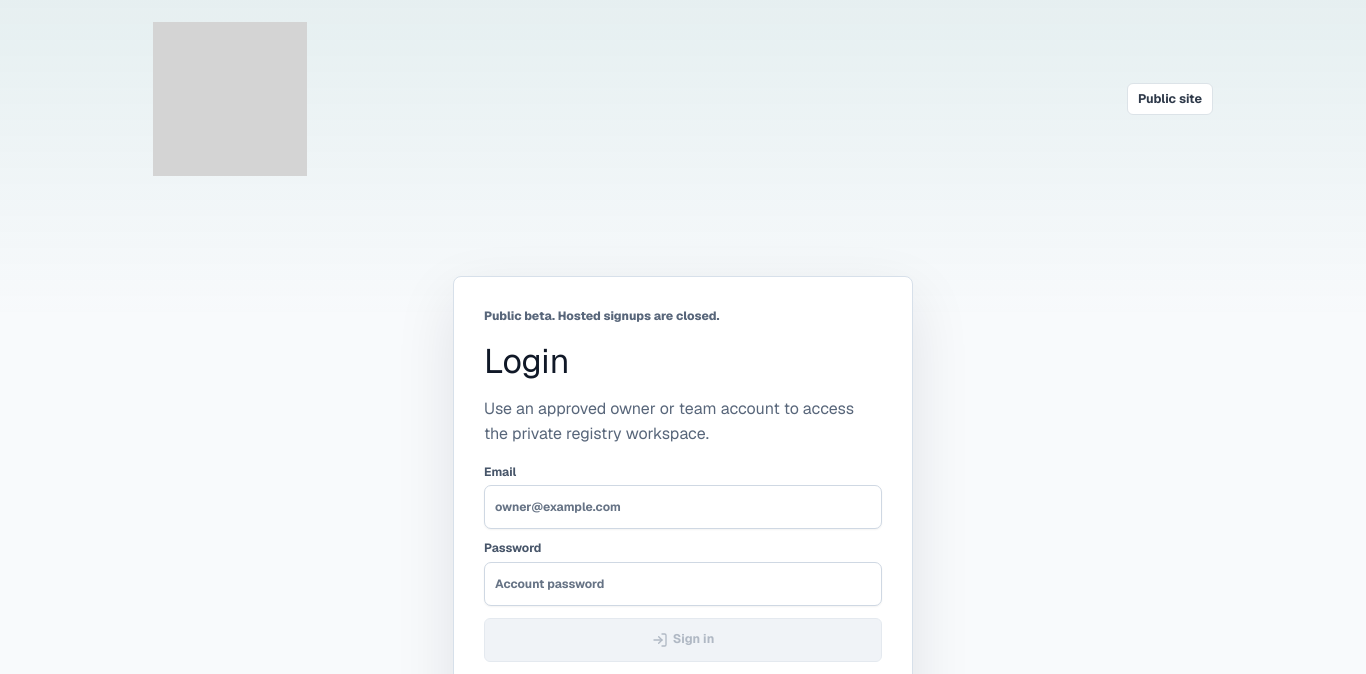
it: non-owner admin sessions cannot edit privileged target role controls
Step 1. Type "admin@example.com" into the field labelled "Email" → [683, 507], box [484,485,882,529]
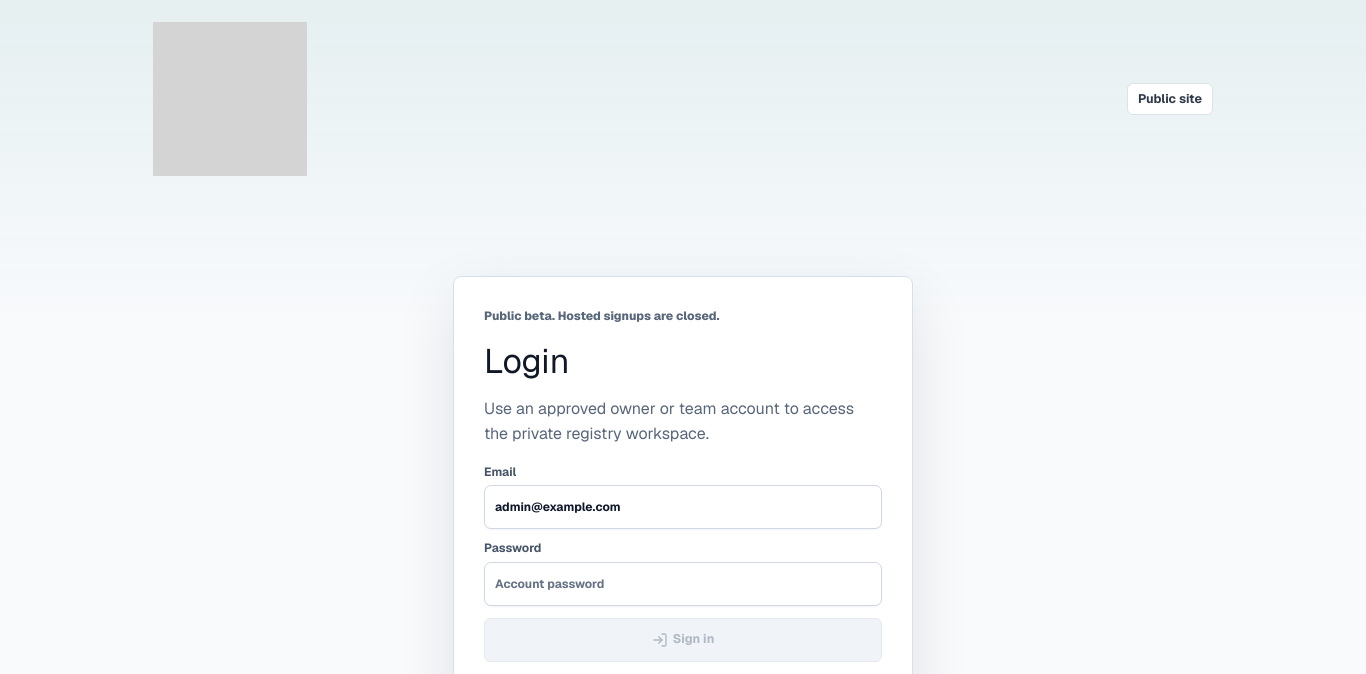
Step 2. Type "correct horse battery staple" into the password field labelled "Password" → [683, 584], box [484,562,882,606]
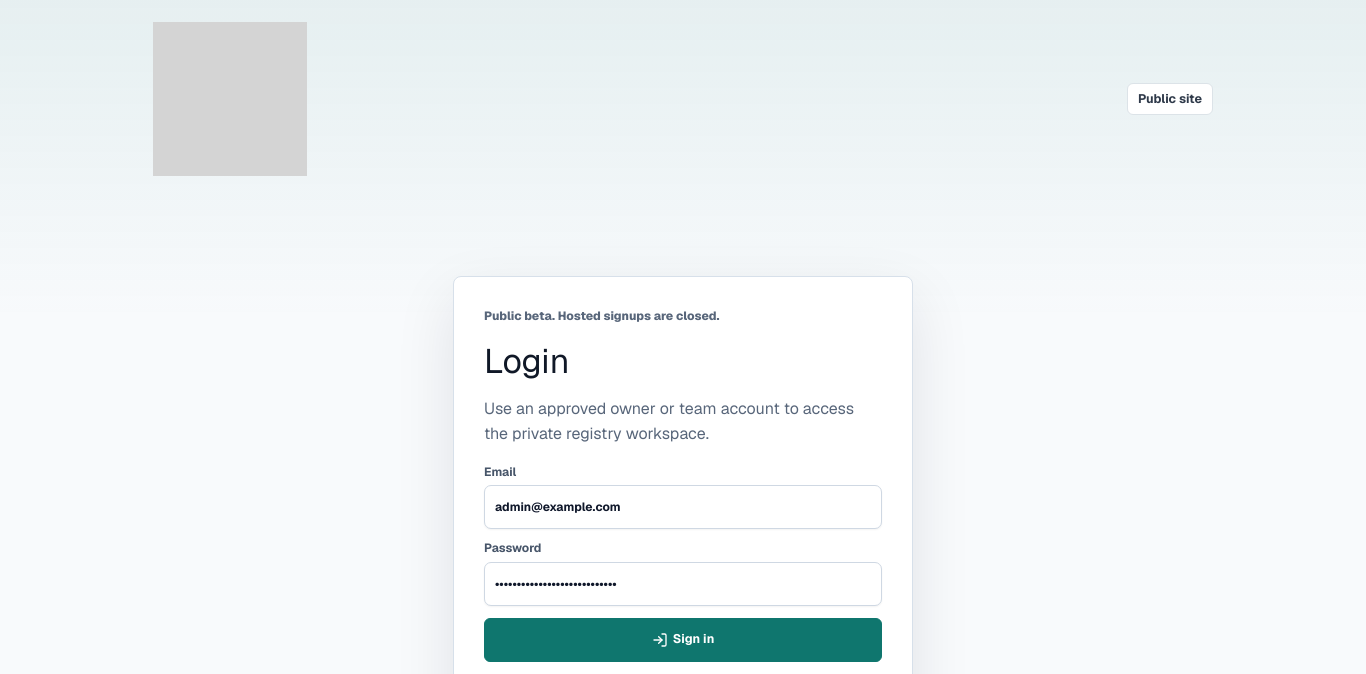
Step 3. Click the button "Sign in" → [683, 640], box [484,618,882,662]
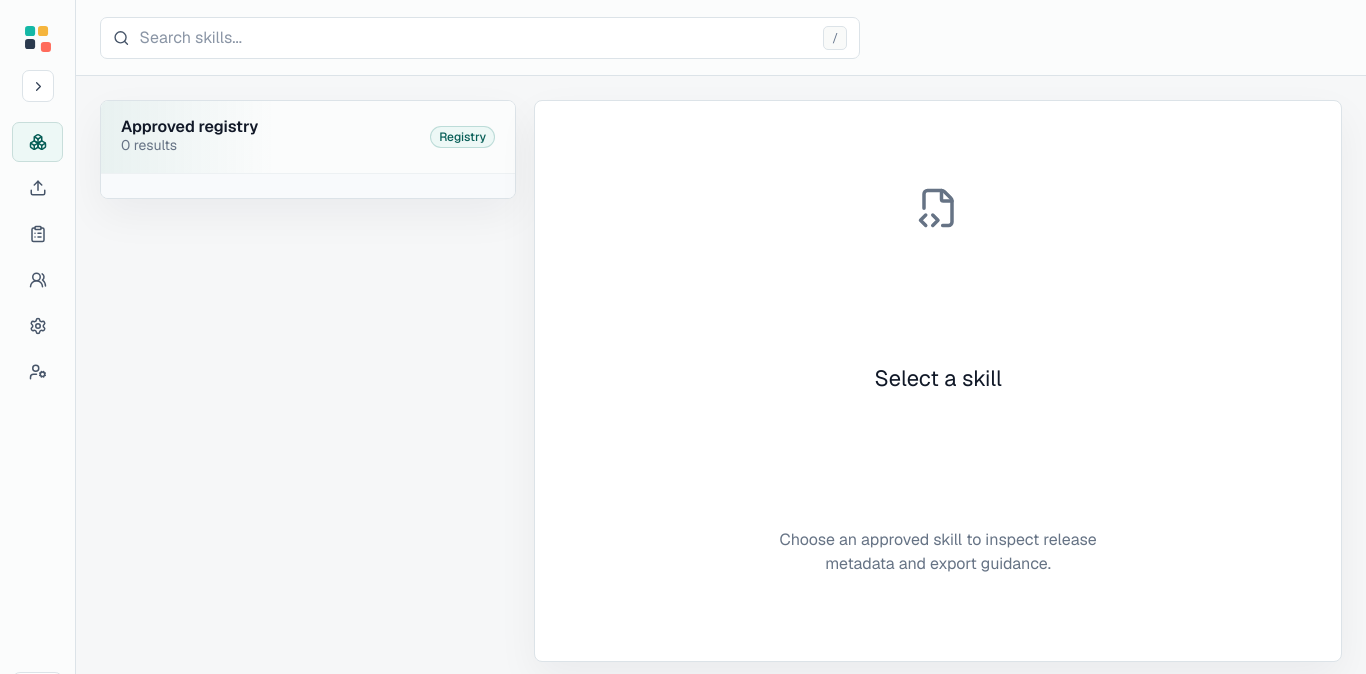
Step 4. Click the button named "admin" → [38, 326], box [12,306,63,346]
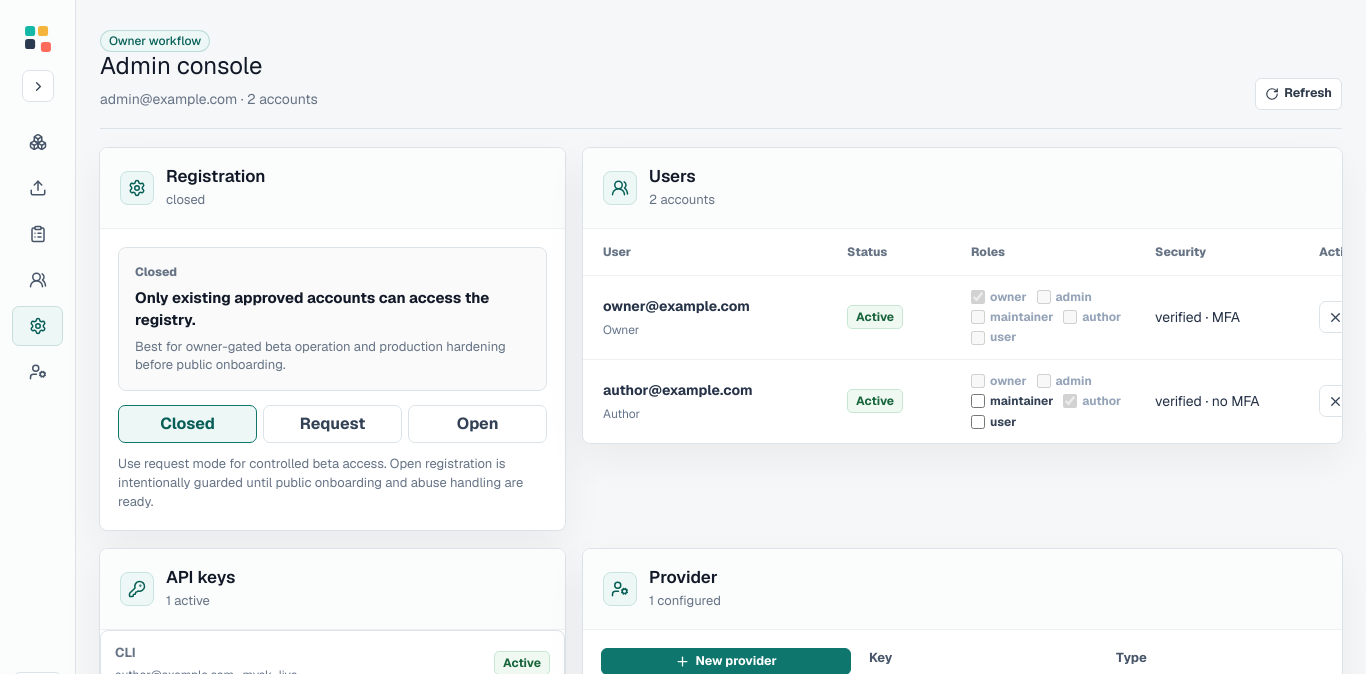
Result: the button "Refresh" is shown at [1255,78,1342,110]
